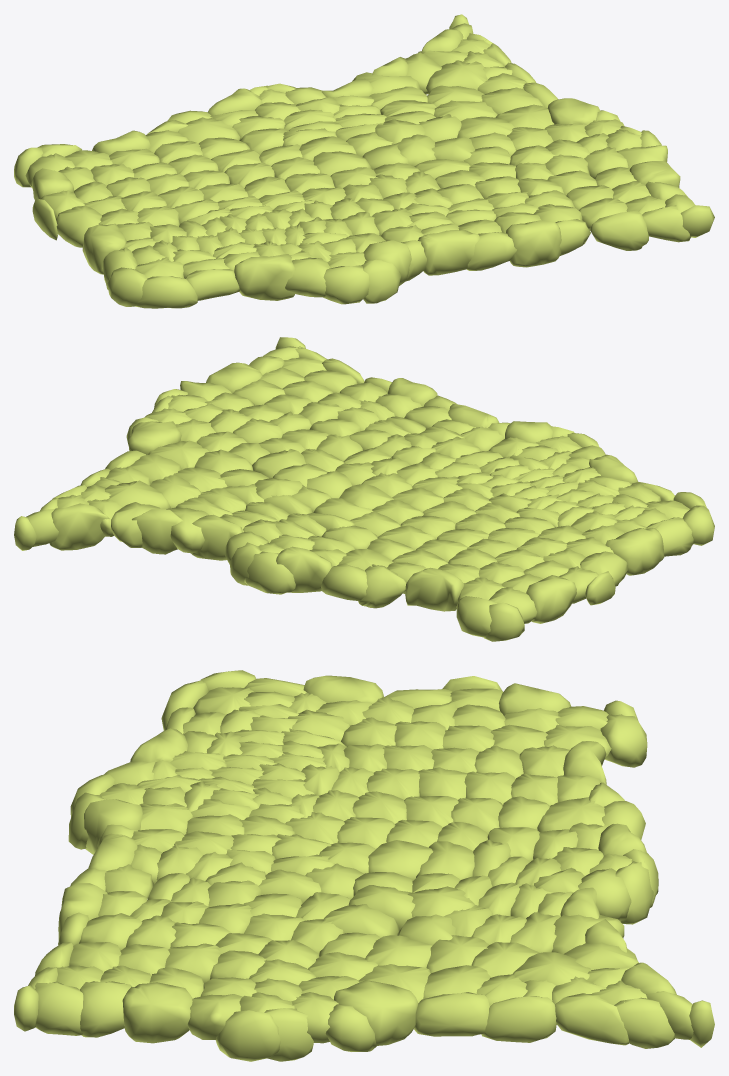
File: Islands2.001_fog.fbx
3 renders of one model, top to bottom at view 1: azimuth 30°, elevation 25°; view 2: azimuth 150°, elevation 25°; view 3: azimuth 270°, elevation 25°, orthographic. The views are drawn at different scales.
Visible parts, largest first — view 1: Island2.001_fog_cell.109, Island2.001_fog_cell.145, Island2.001_fog_cell.092, Island2.001_fog_cell.046, Island2.001_fog_cell.054, Island2.001_fog_cell.076, Island2.001_fog_cell.155, Island2.001_fog_cell.064, Island2.001_fog_cell.028, Island2.001_fog_cell.106, Island2.001_fog_cell.121, Island2.001_fog_cell.171 (+122 smaller); view 2: Island2.001_fog_cell.100, Island2.001_fog_cell.149, Island2.001_fog_cell.155, Island2.001_fog_cell.079, Island2.001_fog_cell.077, Island2.001_fog_cell.148, Island2.001_fog_cell.194, Island2.001_fog_cell.112, Island2.001_fog_cell.078, Island2.001_fog_cell.026, Island2.001_fog_cell.130, Island2.001_fog_cell.127 (+108 smaller); view 3: Island2.001_fog_cell.170, Island2.001_fog_cell.130, Island2.001_fog_cell.098, Island2.001_fog_cell.152, Island2.001_fog_cell.183, Island2.001_fog_cell.126, Island2.001_fog_cell.178, Island2.001_fog_cell.138, Island2.001_fog_cell.197, Island2.001_fog_cell.127, Island2.001_fog_cell.162, Island2.001_fog_cell.047 (+157 smaller).
Boxes of the visible parts, <box> form: Island2.001_fog_cell.109: <box>234,254,295,300</box>; Island2.001_fog_cell.145: <box>506,220,561,267</box>; Island2.001_fog_cell.092: <box>418,230,479,275</box>; Island2.001_fog_cell.046: <box>589,210,648,250</box>; Island2.001_fog_cell.054: <box>135,276,197,308</box>; Island2.001_fog_cell.076: <box>323,265,370,304</box>; Island2.001_fog_cell.155: <box>82,223,126,274</box>; Island2.001_fog_cell.064: <box>466,232,516,270</box>; Island2.001_fog_cell.028: <box>285,257,330,297</box>; Island2.001_fog_cell.106: <box>426,60,487,92</box>; Island2.001_fog_cell.121: <box>185,269,239,300</box>; Island2.001_fog_cell.171: <box>361,259,401,303</box>; Island2.001_fog_cell.100: <box>49,503,109,550</box>; Island2.001_fog_cell.149: <box>405,567,463,611</box>; Island2.001_fog_cell.155: <box>605,528,664,575</box>; Island2.001_fog_cell.079: <box>526,575,576,623</box>; Island2.001_fog_cell.077: <box>276,546,331,592</box>; Island2.001_fog_cell.148: <box>244,551,295,594</box>; Island2.001_fog_cell.194: <box>132,509,183,554</box>; Island2.001_fog_cell.112: <box>358,564,406,608</box>; Island2.001_fog_cell.078: <box>191,514,242,560</box>; Island2.001_fog_cell.026: <box>321,563,367,600</box>; Island2.001_fog_cell.130: <box>128,421,181,454</box>; Island2.001_fog_cell.127: <box>456,596,498,637</box>; Island2.001_fog_cell.170: <box>122,982,192,1043</box>; Island2.001_fog_cell.130: <box>334,980,418,1045</box>; Island2.001_fog_cell.098: <box>414,992,489,1036</box>; Island2.001_fog_cell.152: <box>481,996,556,1042</box>; Island2.001_fog_cell.183: <box>555,993,628,1045</box>; Island2.001_fog_cell.126: <box>215,1010,280,1061</box>; Island2.001_fog_cell.178: <box>80,981,132,1037</box>; Island2.001_fog_cell.138: <box>35,981,83,1035</box>; Island2.001_fog_cell.197: <box>614,997,674,1048</box>; Island2.001_fog_cell.127: <box>600,714,647,767</box>; Island2.001_fog_cell.162: <box>84,799,142,854</box>; Island2.001_fog_cell.047: <box>325,1004,376,1051</box>.
Bounding box in the file's own units: 136 × 10.16 × 112.
